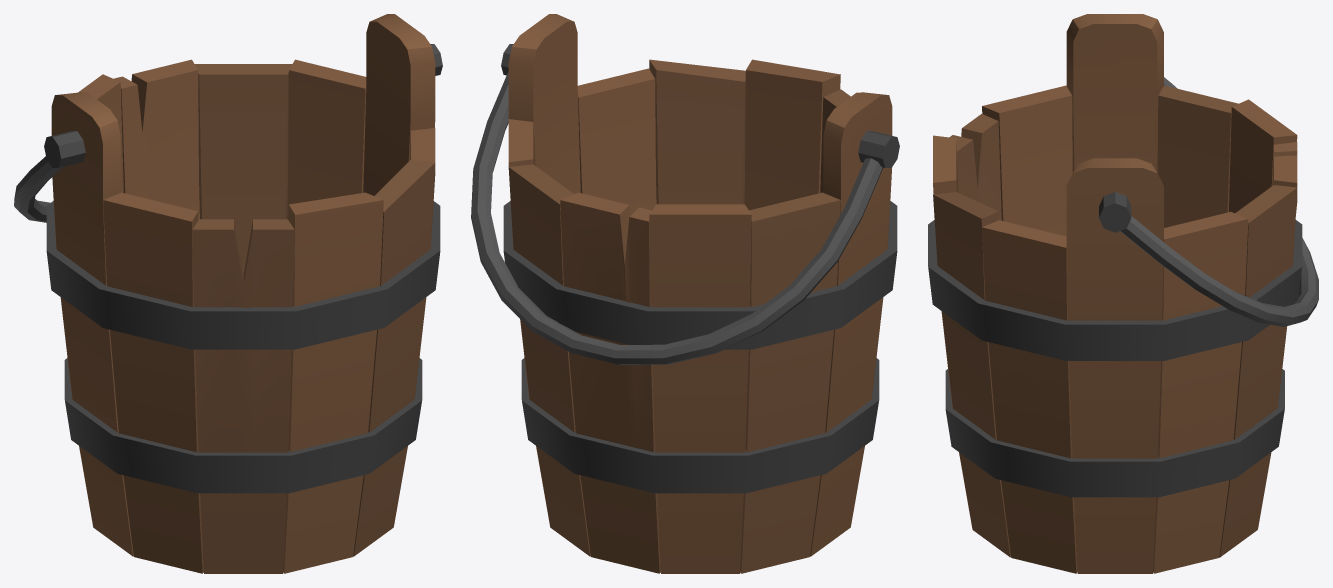
File: Bucket_01.fbx
3 renders of one model, left to right at view 1: azimuth 30°, elevation 25°; view 2: azimuth 150°, elevation 25°; view 3: azimuth 270°, elevation 25°, orthographic. The views are drawn at different scales.
Visible parts, largest first — view 1: Bucket_01_LOD0, Bucket_02_LOD0; view 2: Bucket_01_LOD0, Bucket_02_LOD0; view 3: Bucket_01_LOD0, Bucket_02_LOD0.
Part boxes in pixels (x1,y1,x2,y2): Bucket_01_LOD0: (46,14,440,573); Bucket_02_LOD0: (14,44,442,222); Bucket_01_LOD0: (503,14,897,573); Bucket_02_LOD0: (471,44,899,364); Bucket_01_LOD0: (928,14,1302,573); Bucket_02_LOD0: (1099,77,1318,326).
Size of what is drawn, in the model's own units: 0.4765 by 0.5307 by 0.4446.
